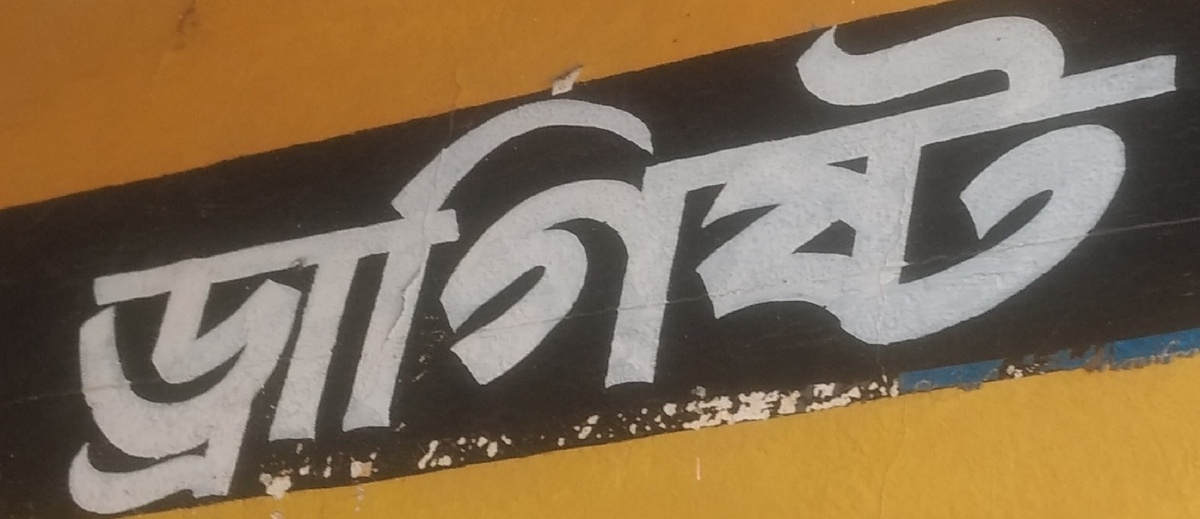text: (97, 9, 112, 517), (113, 9, 128, 517), (129, 9, 144, 517), (145, 9, 160, 517), (161, 9, 176, 517), (177, 9, 192, 517), (193, 9, 208, 517), (209, 9, 224, 517), (225, 9, 240, 517), (241, 9, 256, 517), (257, 9, 272, 517), (273, 9, 288, 517), (289, 9, 304, 517), (305, 9, 320, 517), (321, 9, 336, 517), (337, 9, 352, 517), (353, 9, 368, 517), (369, 9, 384, 517), (385, 9, 400, 517), (401, 9, 416, 517), (417, 9, 432, 517), (433, 9, 448, 517), (449, 9, 464, 517), (465, 9, 480, 517), (481, 9, 496, 517), (497, 9, 512, 517), (513, 9, 528, 517), (529, 9, 544, 517), (545, 9, 560, 517), (561, 9, 576, 517), (577, 9, 592, 517), (593, 9, 608, 517), (609, 9, 624, 517), (625, 9, 640, 517), (641, 9, 656, 517), (657, 9, 672, 517), (673, 9, 688, 517), (689, 9, 704, 517), (705, 9, 720, 517), (721, 9, 736, 517), (737, 9, 752, 517), (753, 9, 768, 517), (769, 9, 784, 517), (785, 9, 800, 517), (801, 9, 816, 517), (817, 9, 832, 517), (833, 9, 848, 517), (849, 9, 864, 517), (865, 9, 880, 517), (881, 9, 896, 517), (897, 9, 912, 517), (913, 9, 928, 517), (929, 9, 944, 517), (945, 9, 960, 517), (961, 9, 976, 517), (977, 9, 992, 517), (993, 9, 1008, 517), (1009, 9, 1024, 517), (1025, 9, 1040, 517), (1041, 9, 1056, 517), (1057, 9, 1072, 517), (1073, 9, 1088, 517), (1089, 9, 1104, 517), (1105, 9, 1120, 517), (1121, 9, 1136, 517), (1137, 9, 1152, 517), (1153, 9, 1168, 517), (1169, 9, 1184, 517), (87, 9, 96, 517), (1185, 9, 1190, 517)
